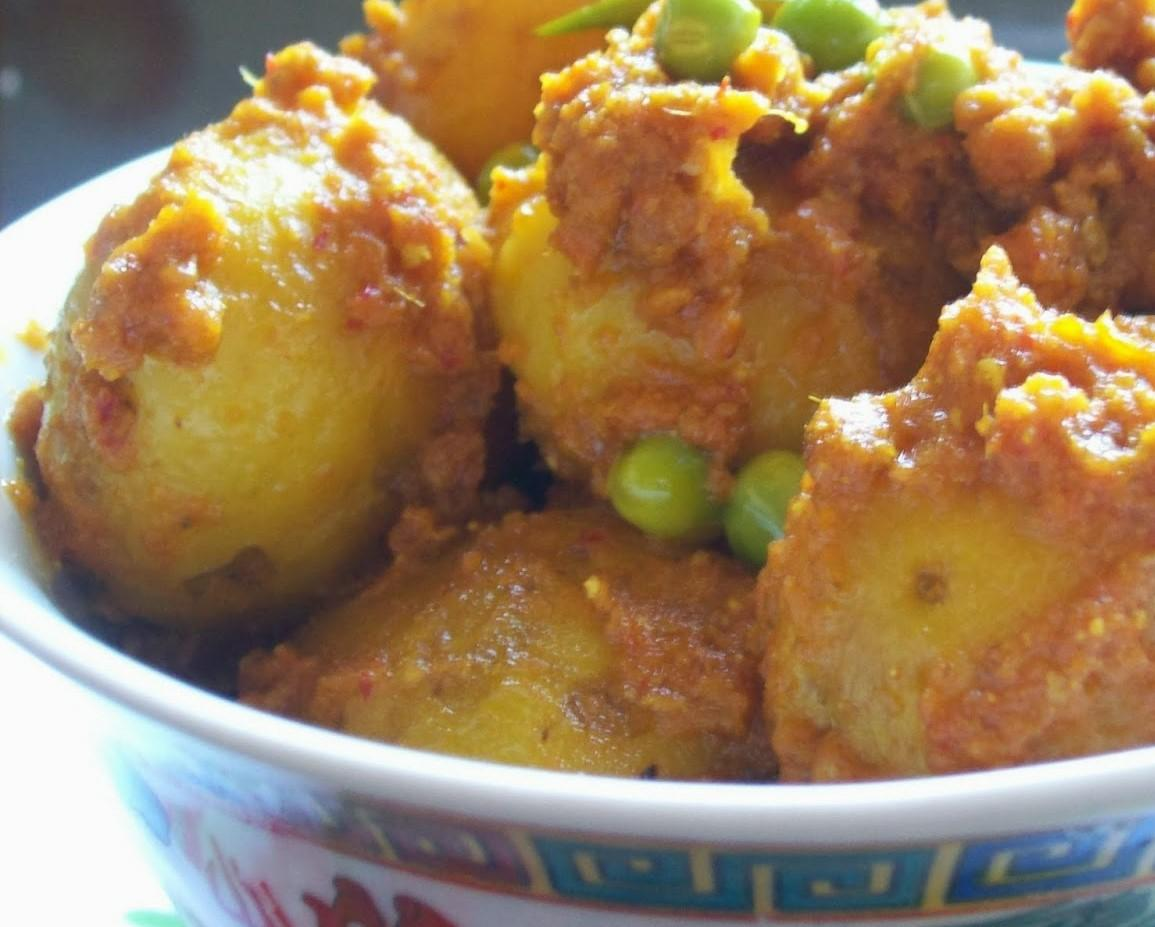DumAloo: (0, 0, 1155, 783)
